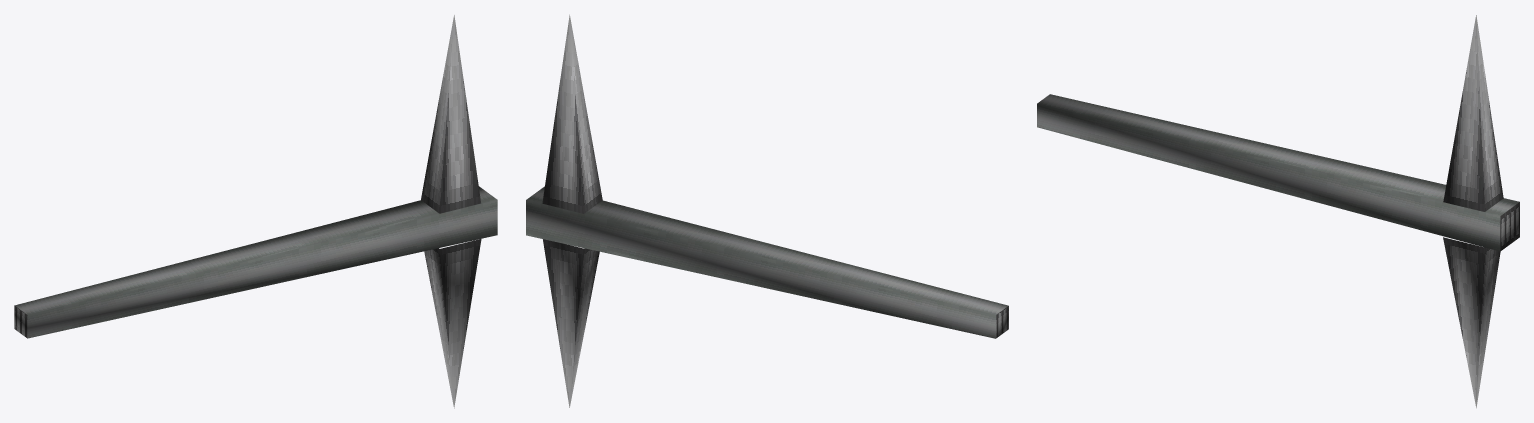
3 views of the same model, side by side, from view 1: azimuth 30°, elevation 25°; view 2: azimuth 150°, elevation 25°; view 3: azimuth 330°, elevation 25° (orthographic).
Parts seen in each view (by area): view 1: it59; view 2: it59; view 3: it59.
Part boxes in pixels (left/top/right/bottom): it59: left=14, top=15, right=497, bottom=408; it59: left=526, top=14, right=1008, bottom=407; it59: left=1037, top=15, right=1519, bottom=408.
Bounding box in the file's own units: 2.05 × 1.66 × 0.149.
Materials: 3 (3 with a texture image).
